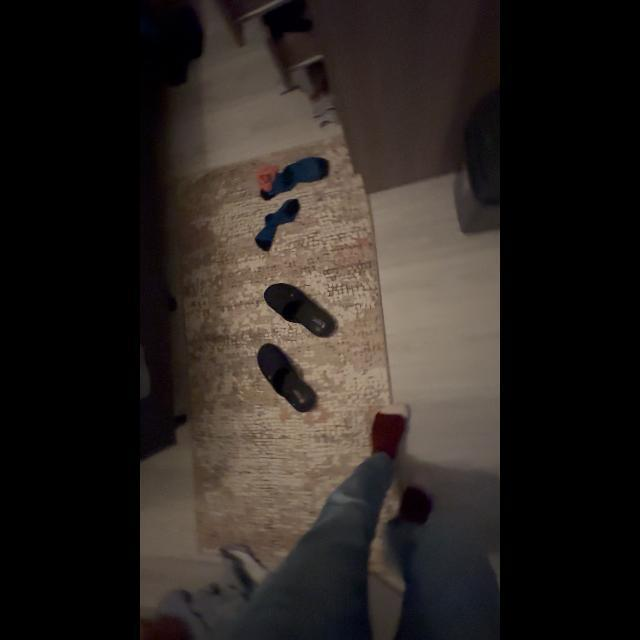slipper: (252, 342, 324, 416), (260, 277, 342, 341)
